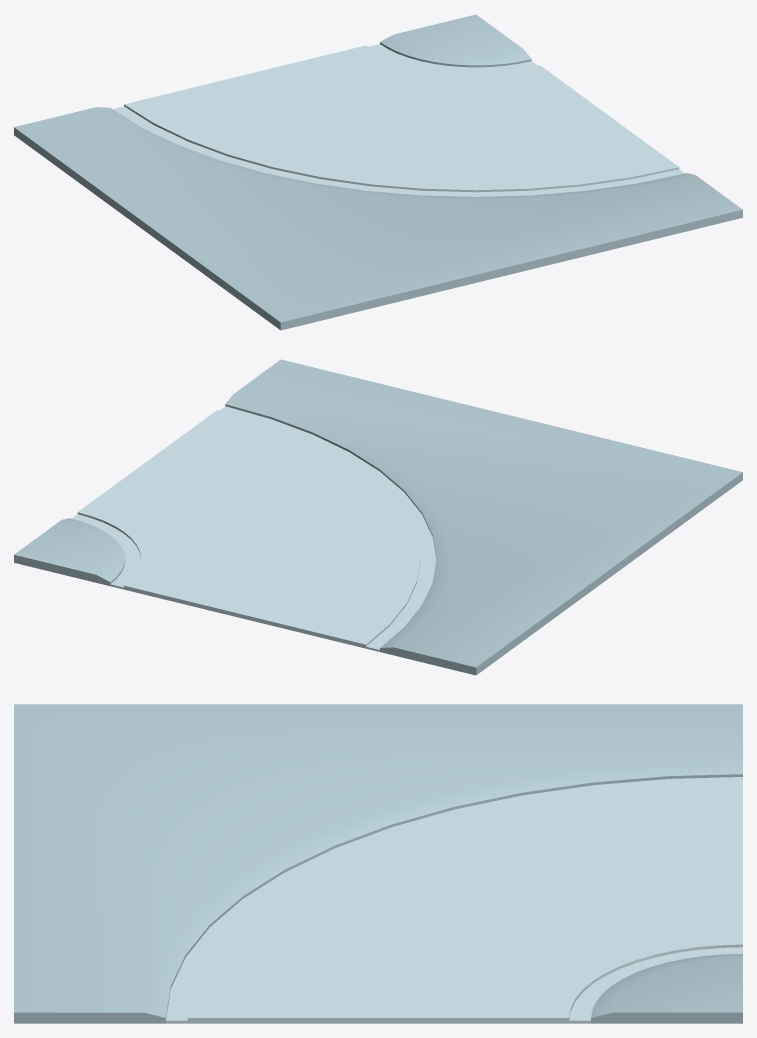
The picture shows the model from 3 angles, top to bottom: view 1: azimuth 30°, elevation 25°; view 2: azimuth 150°, elevation 25°; view 3: azimuth 270°, elevation 25°; orthographic projection. The views are drawn at different scales.
Parts seen in each view (by area): view 1: roadBend; view 2: roadBend; view 3: roadBend.
Part boxes in pixels (left/top/right/bottom): roadBend: left=14, top=14, right=742, bottom=330; roadBend: left=14, top=359, right=742, bottom=675; roadBend: left=14, top=704, right=742, bottom=1023.
Bounding box in the file's own units: 3 × 0.05 × 3.
